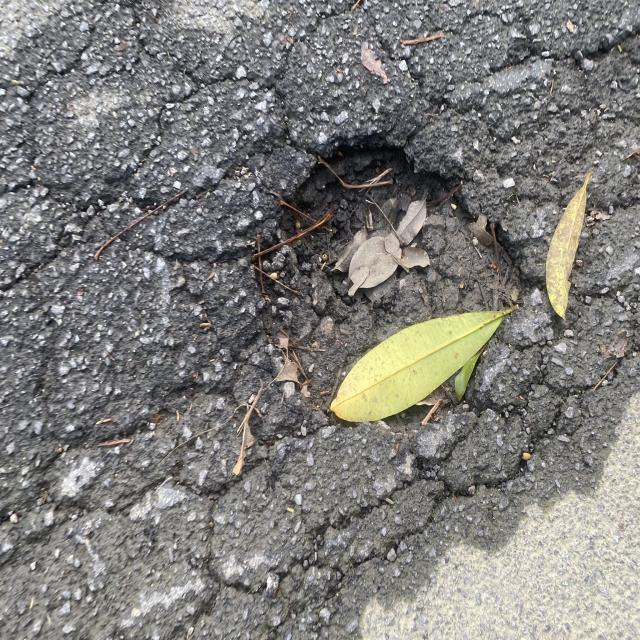pothole: (258, 81, 520, 456)
